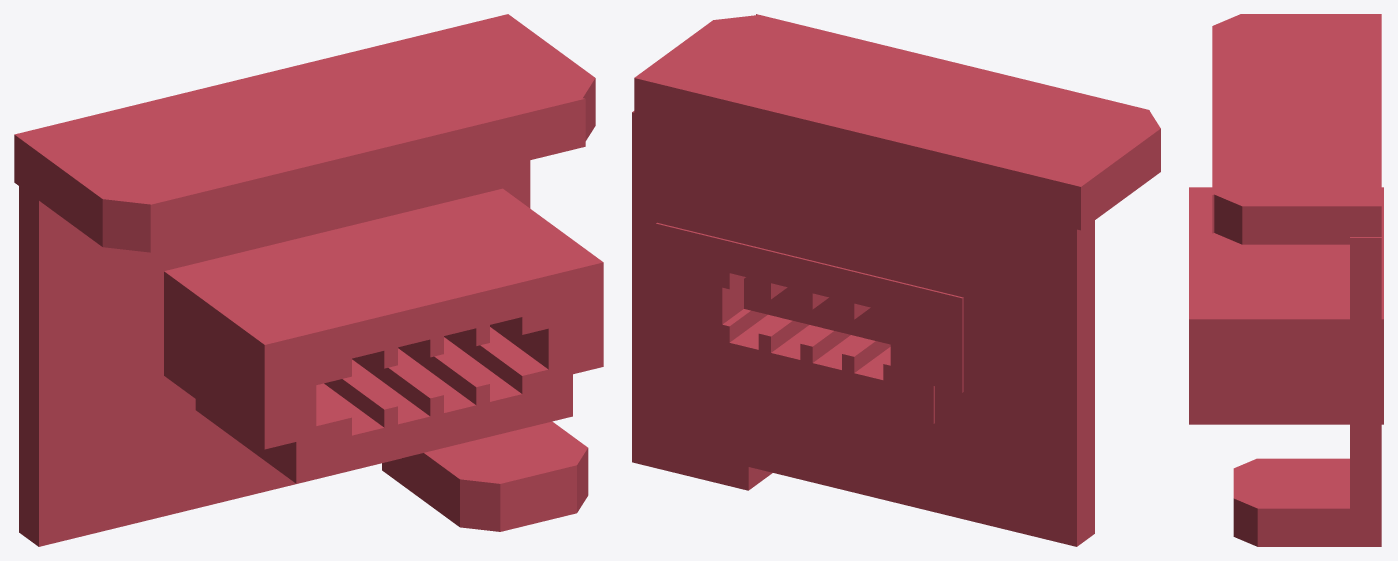
File: WS Port.glb
3 renders of one model, left to right at view 1: azimuth 30°, elevation 25°; view 2: azimuth 150°, elevation 25°; view 3: azimuth 270°, elevation 25°, orthographic. The views are drawn at different scales.
Parts seen in each view (by area): view 1: Mesh_Mesh_head_geo.001_lambert2SG.001; view 2: Mesh_Mesh_head_geo.001_lambert2SG.001; view 3: Mesh_Mesh_head_geo.001_lambert2SG.001.
Boxes of the visible parts, left/top/right/bottom form: Mesh_Mesh_head_geo.001_lambert2SG.001: left=14, top=14, right=603, bottom=546; Mesh_Mesh_head_geo.001_lambert2SG.001: left=632, top=14, right=1160, bottom=546; Mesh_Mesh_head_geo.001_lambert2SG.001: left=1189, top=14, right=1383, bottom=546.
Bounding box in the file's own units: 21.6 × 17.7 × 9.2.
